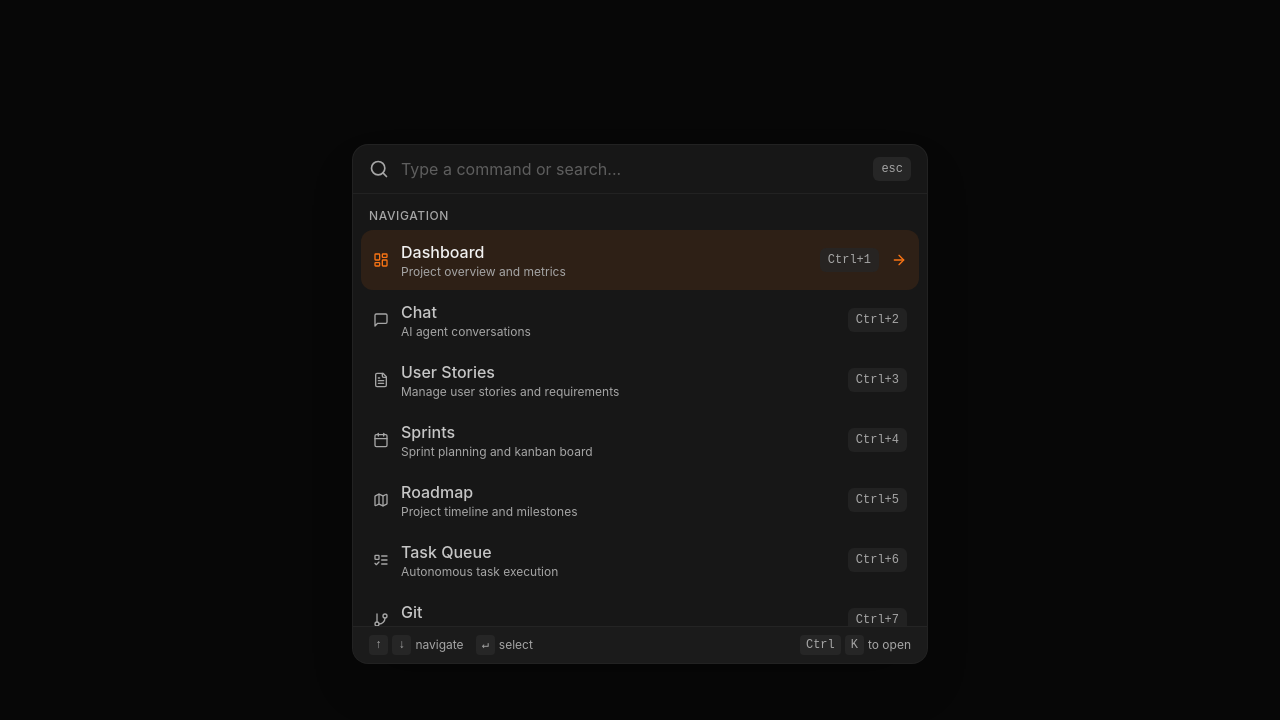
CommandPalette › Search filtering › should filter commands by description
Note: Use fireEvent.change instead of userEvent.type to avoid character interleaving
Type "requirements" into the field with placeholder "Type a command or search..." at (631, 169), box x1=401 y1=157 x2=861 y2=181
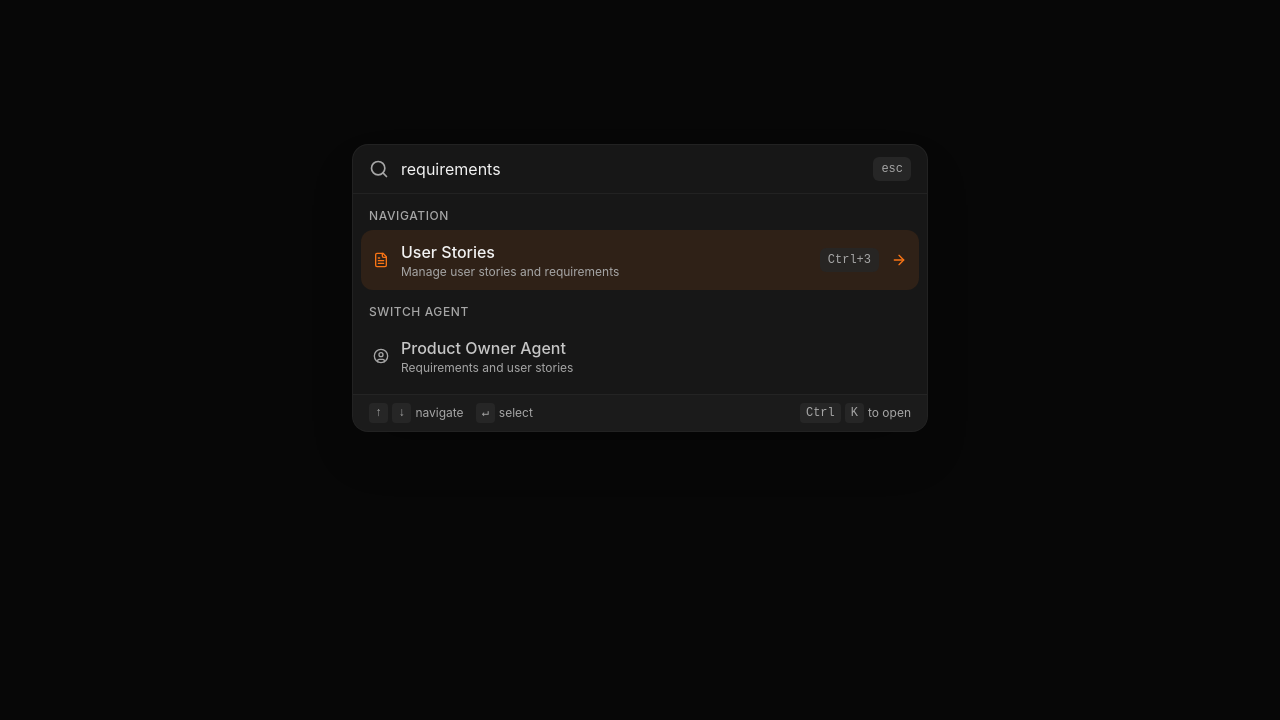
Expected: the text "User Stories" is shown, x1=401 y1=242 x2=495 y2=262
Expected: the text "Product Owner Agent" is shown, x1=401 y1=338 x2=566 y2=358
